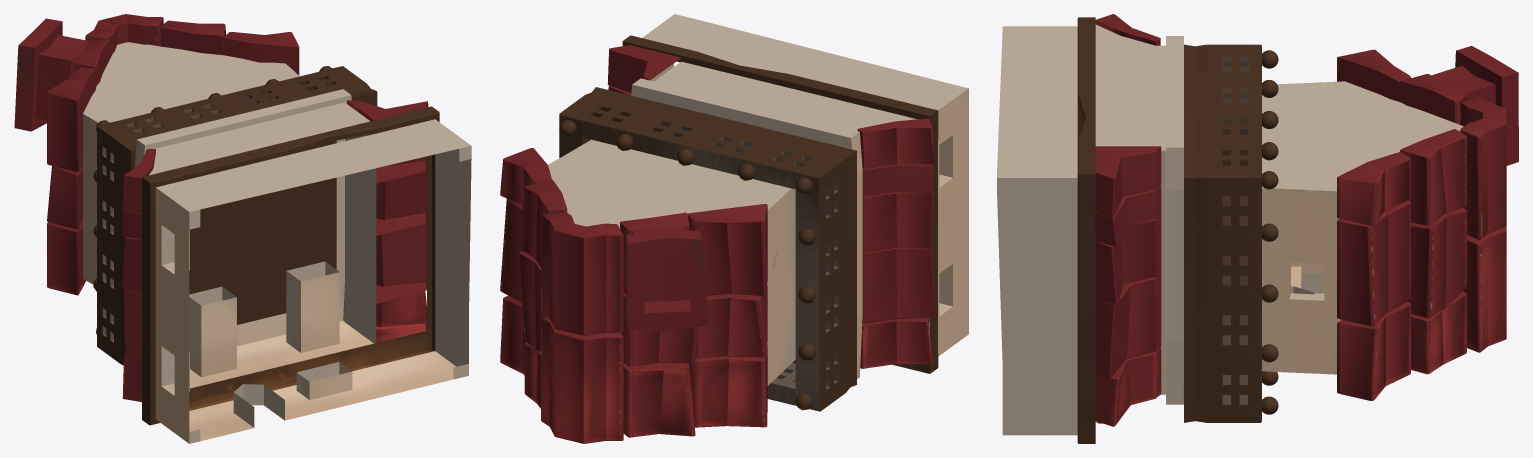
The model's file is Casa Exterior.FBX.
3 renders of one model, left to right at view 1: azimuth 30°, elevation 25°; view 2: azimuth 150°, elevation 25°; view 3: azimuth 270°, elevation 25°, orthographic. The views are drawn at different scales.
Parts seen in each view (by area): view 1: HouseMesh; view 2: HouseMesh; view 3: HouseMesh.
Part boxes in pixels (box(x1,y1,x2,y2)): HouseMesh: box(14, 14, 471, 443); HouseMesh: box(500, 14, 968, 443); HouseMesh: box(997, 14, 1518, 443).
Size of the model in its own units: 783 by 591 by 1036.
1 material, 1 textured.
